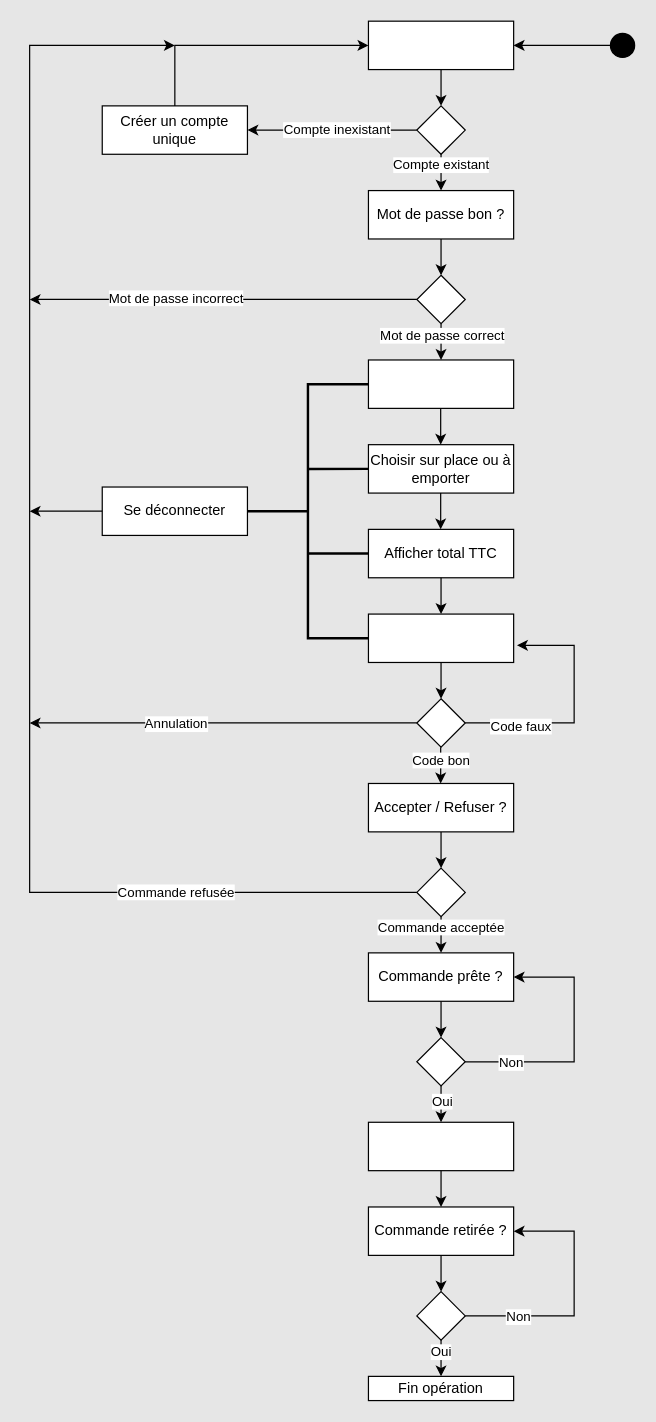
Some shapes in this 656 by 1422 pixel diagram are drawn without their labels. Here are the shapes that lost their labels. From the top down, the centre of each, then its label:
At point (440, 45): "Page de connexion".
At point (440, 383): "Afficher page et liste produits".
At point (440, 637): "Saisir infos de paiement".
At point (440, 1146): "Notifier le client".
